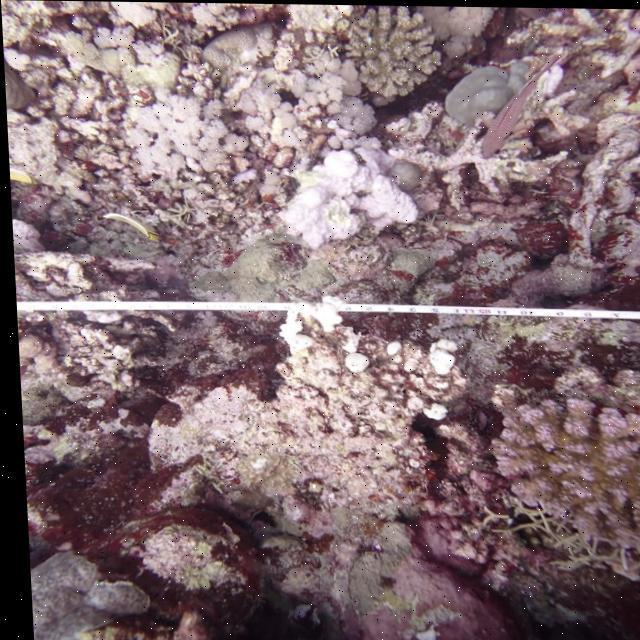Bleached Coral: (30, 10, 252, 218), (270, 126, 433, 280)
Healthy Coral: (507, 389, 640, 544), (339, 0, 440, 96)
